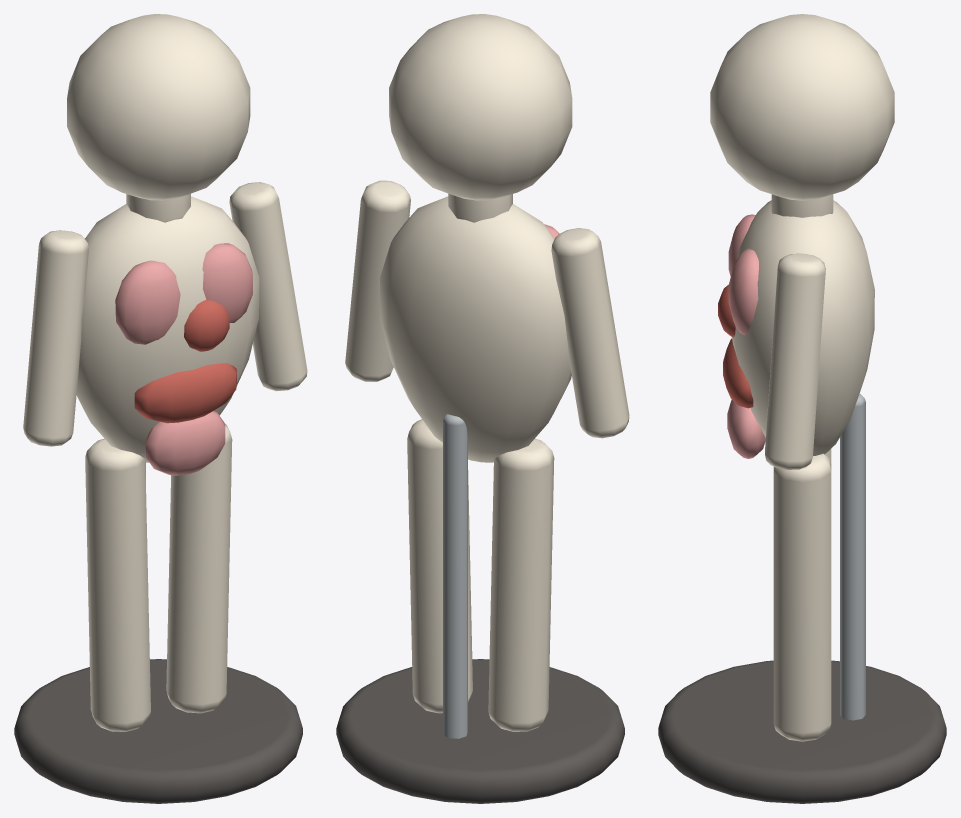
Rendered from anatomy_model.glb.
3 renders of one model, left to right at view 1: azimuth 30°, elevation 25°; view 2: azimuth 150°, elevation 25°; view 3: azimuth 270°, elevation 25°, orthographic.
Parts seen in each view (by area): view 1: anatomy_model_mesh; view 2: anatomy_model_mesh; view 3: anatomy_model_mesh.
Boxes of the visible parts, <box> form: anatomy_model_mesh: <box>14,14,307,803</box>; anatomy_model_mesh: <box>336,14,629,803</box>; anatomy_model_mesh: <box>658,14,946,803</box>.
Size of the model in its own units: 0.4448 by 1.11 by 0.4.
